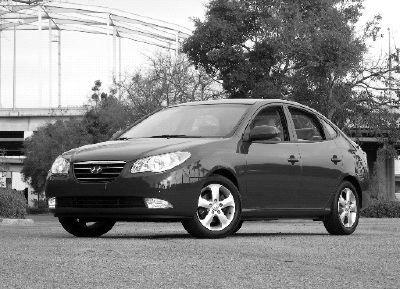car: (43, 98, 373, 241)
